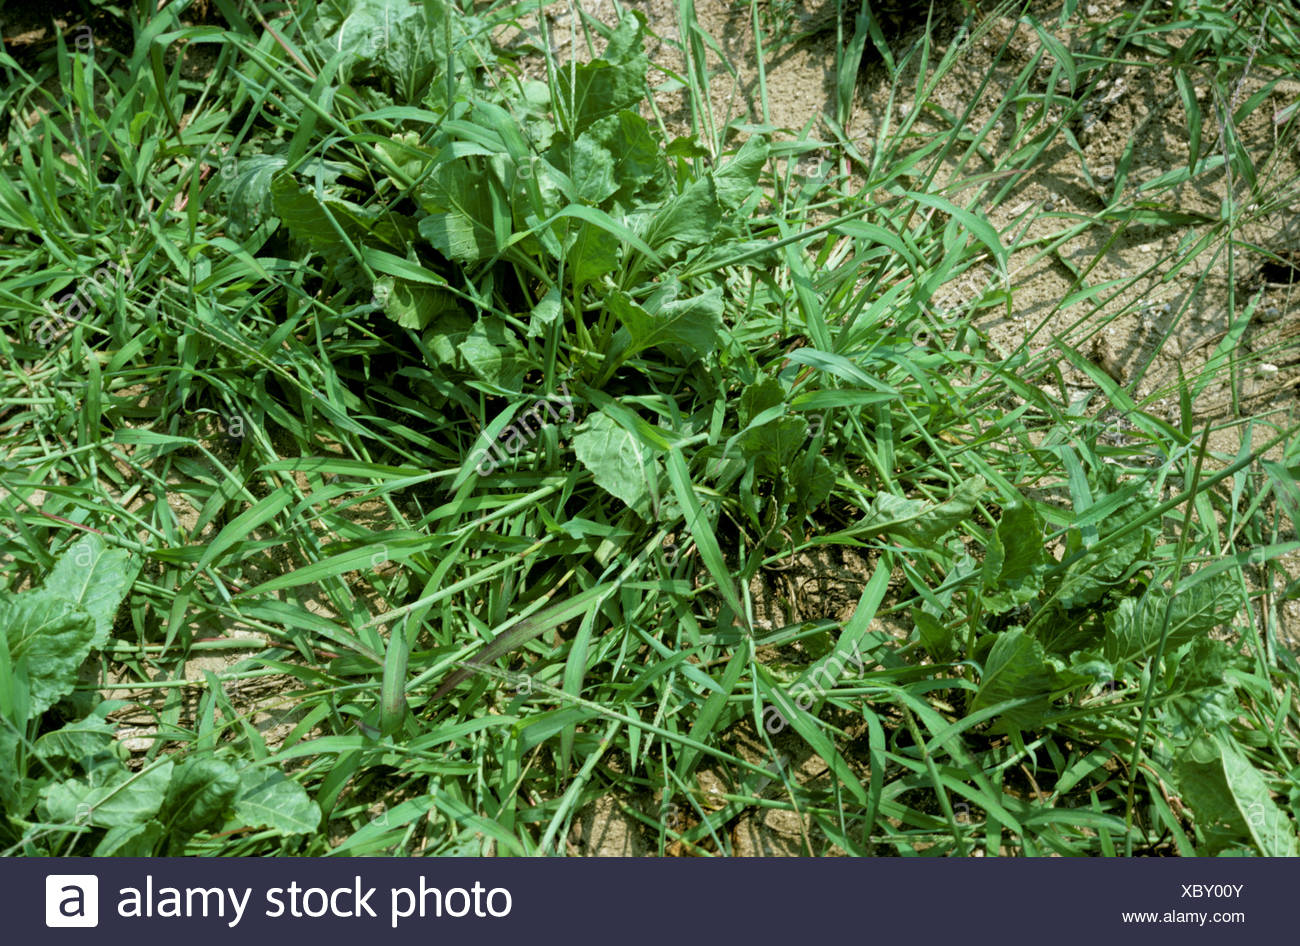crabgrass: (105, 220, 686, 763)
